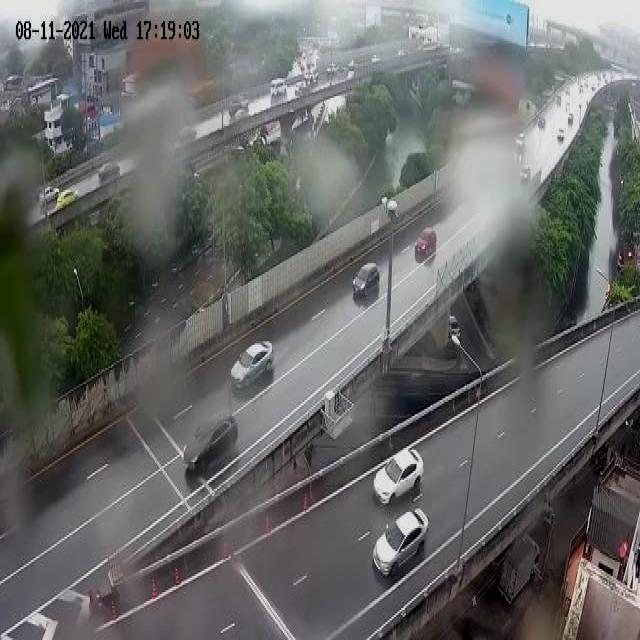Car: (367, 510, 440, 597), (162, 411, 248, 481), (365, 444, 439, 500), (223, 331, 286, 385), (349, 253, 383, 303), (413, 224, 443, 264), (86, 157, 124, 187), (54, 189, 92, 216)
